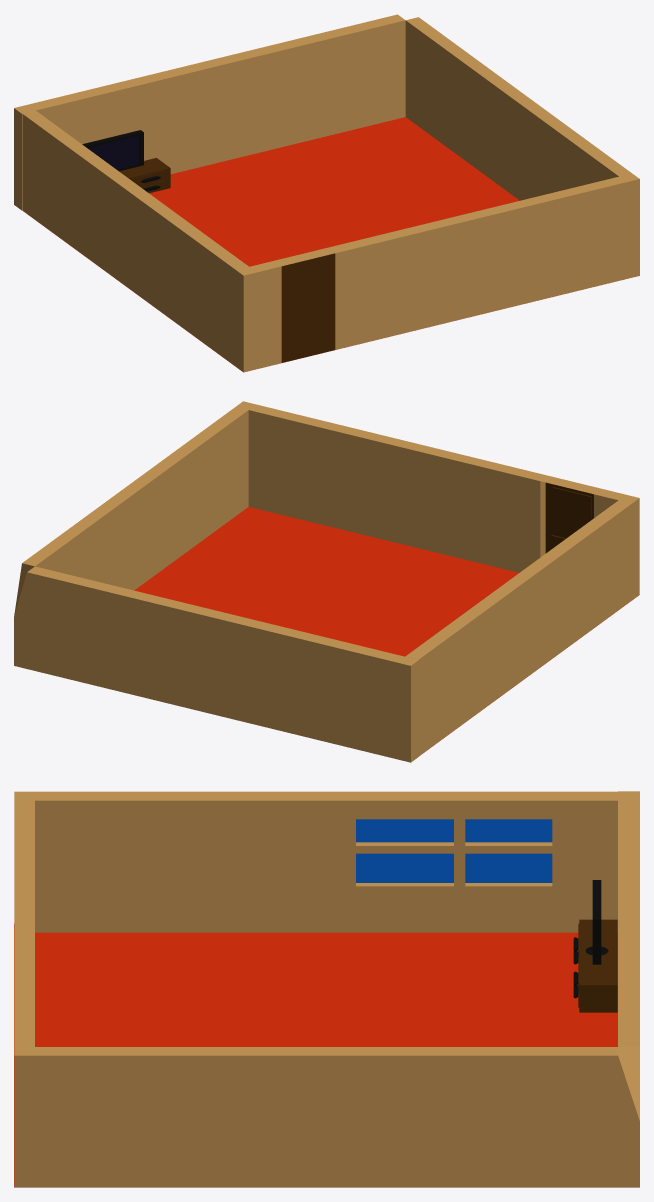
The model's file is Casa.fbx.
The picture shows the model from 3 angles, top to bottom: view 1: azimuth 30°, elevation 25°; view 2: azimuth 150°, elevation 25°; view 3: azimuth 270°, elevation 25°; orthographic projection. The views are drawn at different scales.
Parts seen in each view (by area): view 1: Cubo, Plano, Cubo.002, Cubo.001; view 2: Cubo, Plano; view 3: Cubo, Plano, Cubo.001, Cubo.002.
Boxes of the visible parts, x1,y1,x2,y2 form: Cubo: (14,14,639,372); Plano: (23,117,638,372); Cubo.002: (82,130,143,171); Cubo.001: (119,158,170,193); Cubo: (14,401,639,762); Plano: (134,507,638,755); Cubo: (14,791,639,1187); Plano: (14,924,617,1187); Cubo.001: (573,919,617,1012); Cubo.002: (585,880,608,964).
Bounding box in the file's own units: 4760 × 1109 × 4764.
